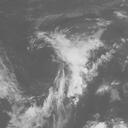cyclone: (45, 30, 94, 93)
